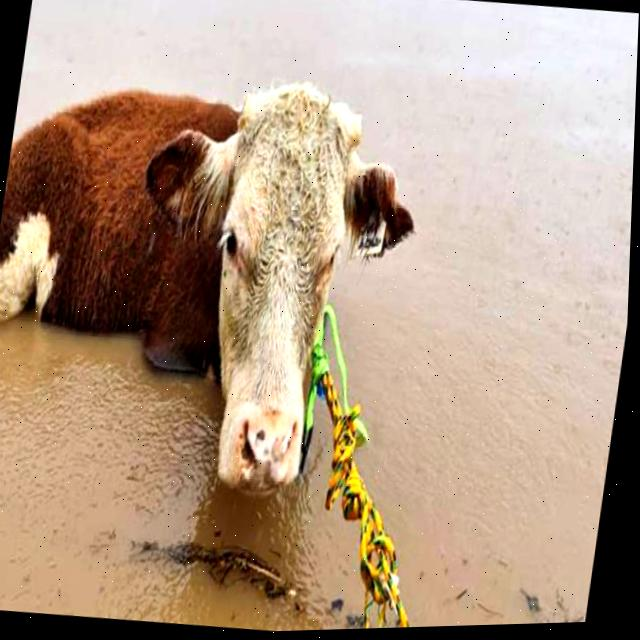cow: (0, 32, 435, 513)
